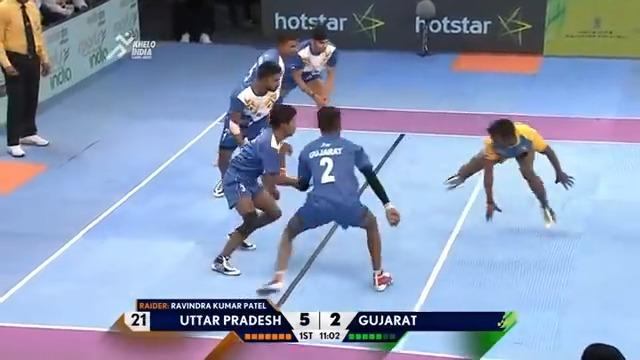Player: (256, 103, 403, 301), (209, 102, 304, 277), (227, 72, 288, 204), (250, 18, 299, 120), (280, 24, 340, 107)
Raider: (442, 117, 576, 231)
referee: (0, 0, 52, 157)
